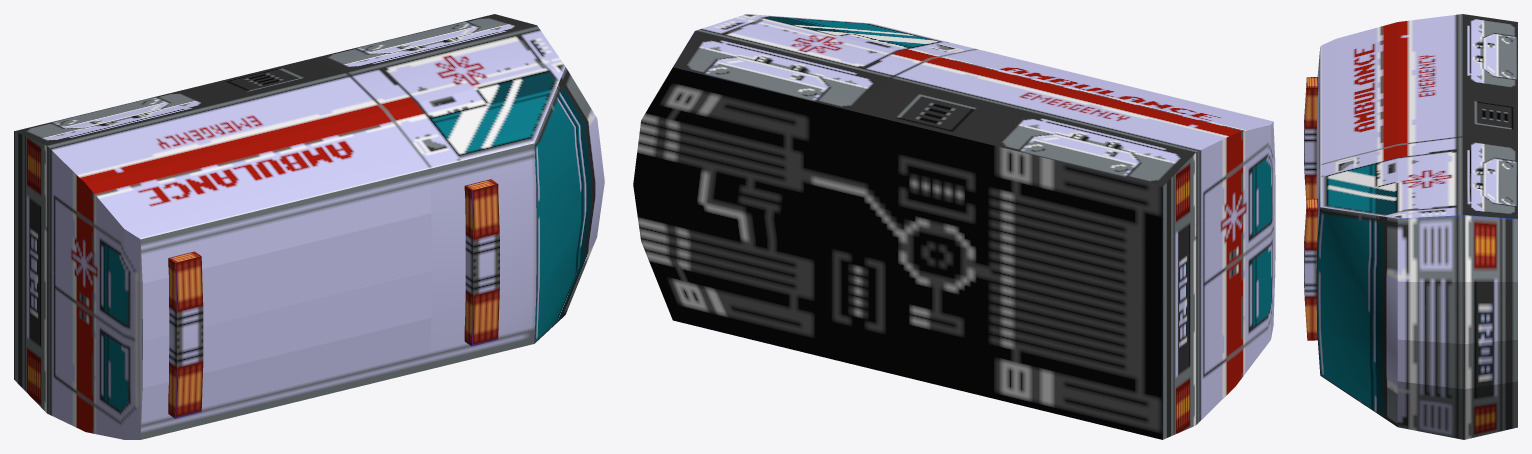
Rendered from ambulance.obj.
3 renders of one model, left to right at view 1: azimuth 30°, elevation 25°; view 2: azimuth 150°, elevation 25°; view 3: azimuth 270°, elevation 25°, orthographic. The views are drawn at different scales.
Visible parts, largest first — view 1: ambulance; view 2: ambulance; view 3: ambulance.
Boxes of the visible parts, x1,y1,x2,y2 form: ambulance: (14,14,604,439); ambulance: (633,14,1275,439); ambulance: (1304,14,1517,439).
Size of the model in its own units: 56.46 by 27.27 by 23.5.
